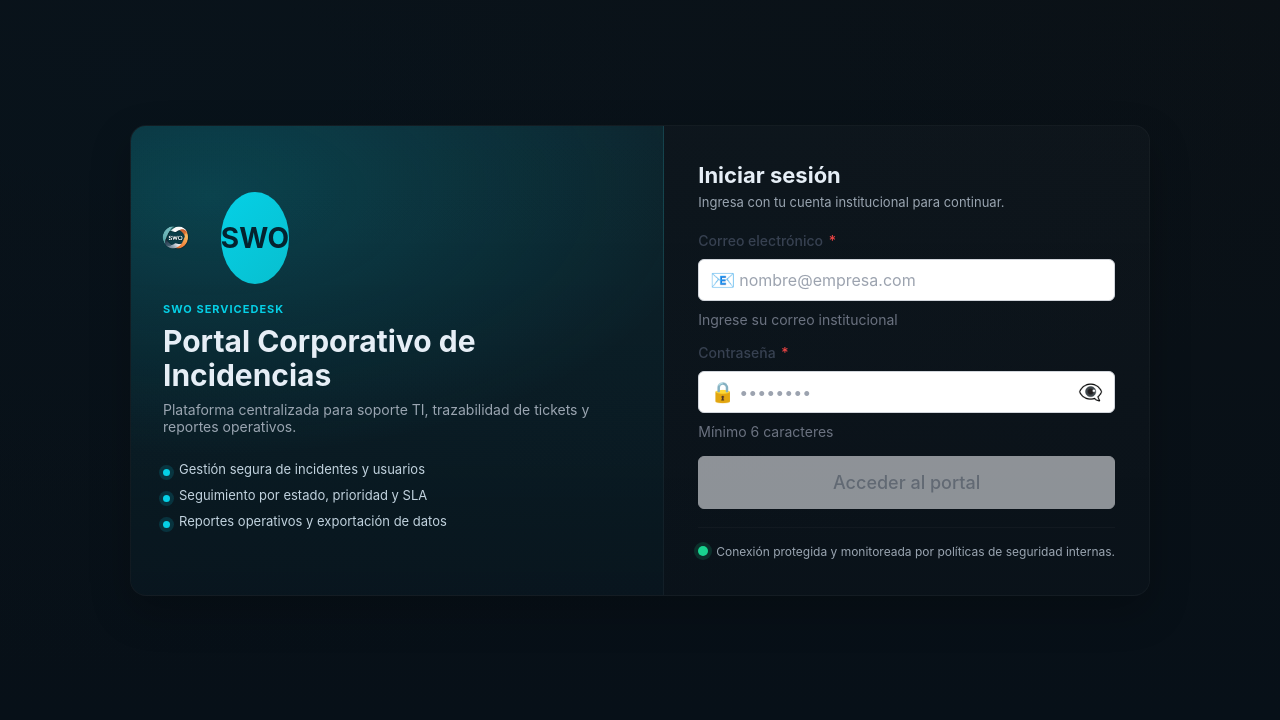
Caso 004 - Chatbot: Mensajes Simultáneos y Estado escribiendo$ › 004-C: Estado escribiendo$ transiciona correctamente true -> false
In the field labelled "Correo electrónico *": coordinates (907, 280) 698,259 -> 1115,301, type "master@swo.com"
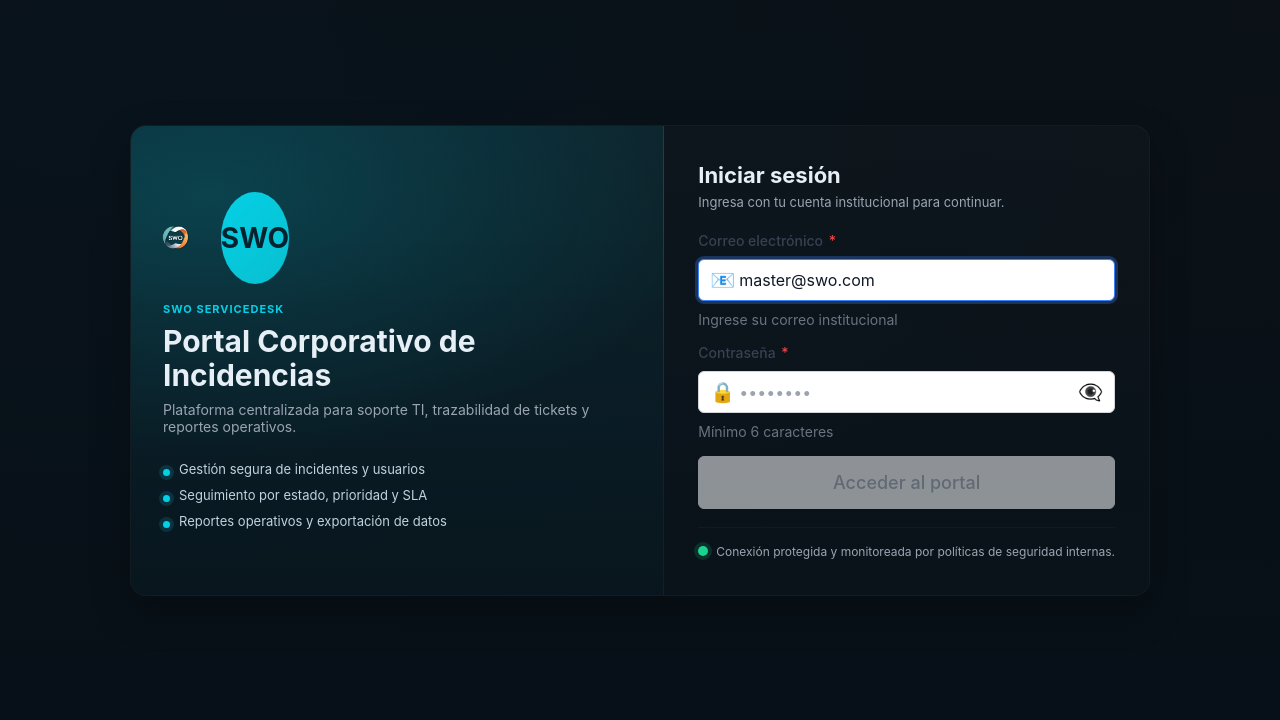
In the password field labelled "Contraseña *": coordinates (907, 392) 698,371 -> 1115,413, type "123456"
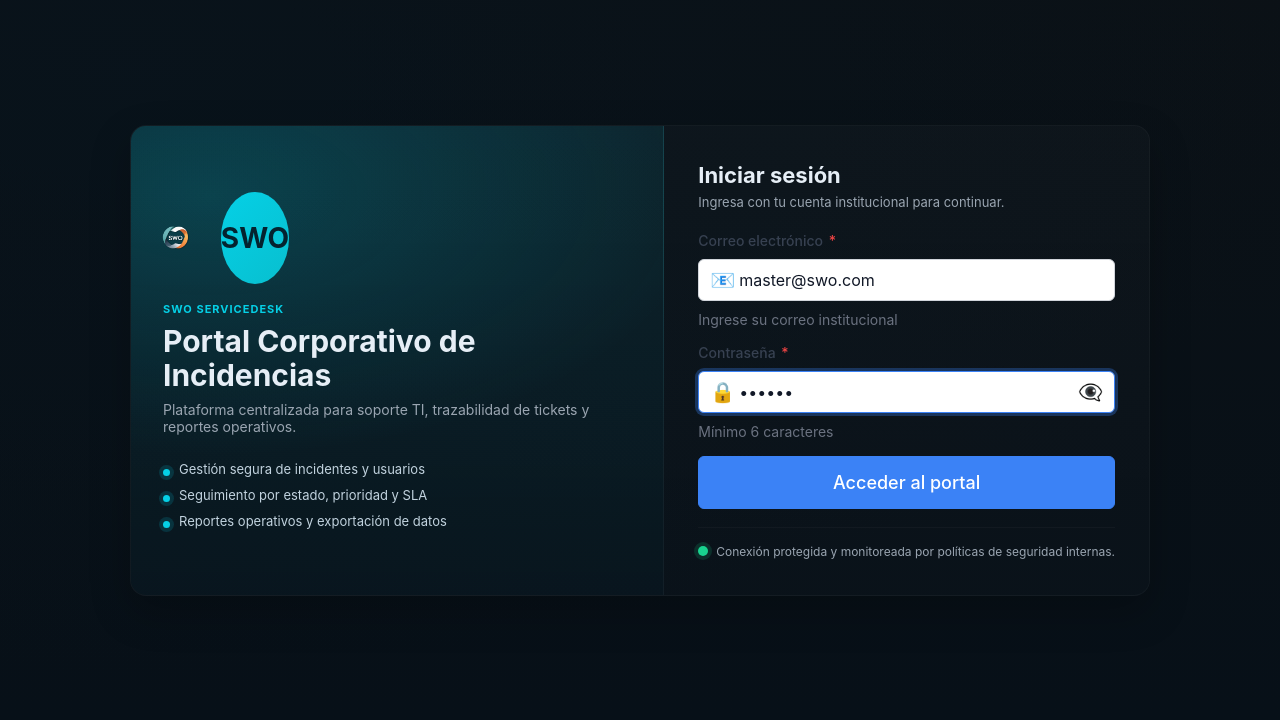
Click the submit button: coordinates (907, 483) 698,456 -> 1115,509
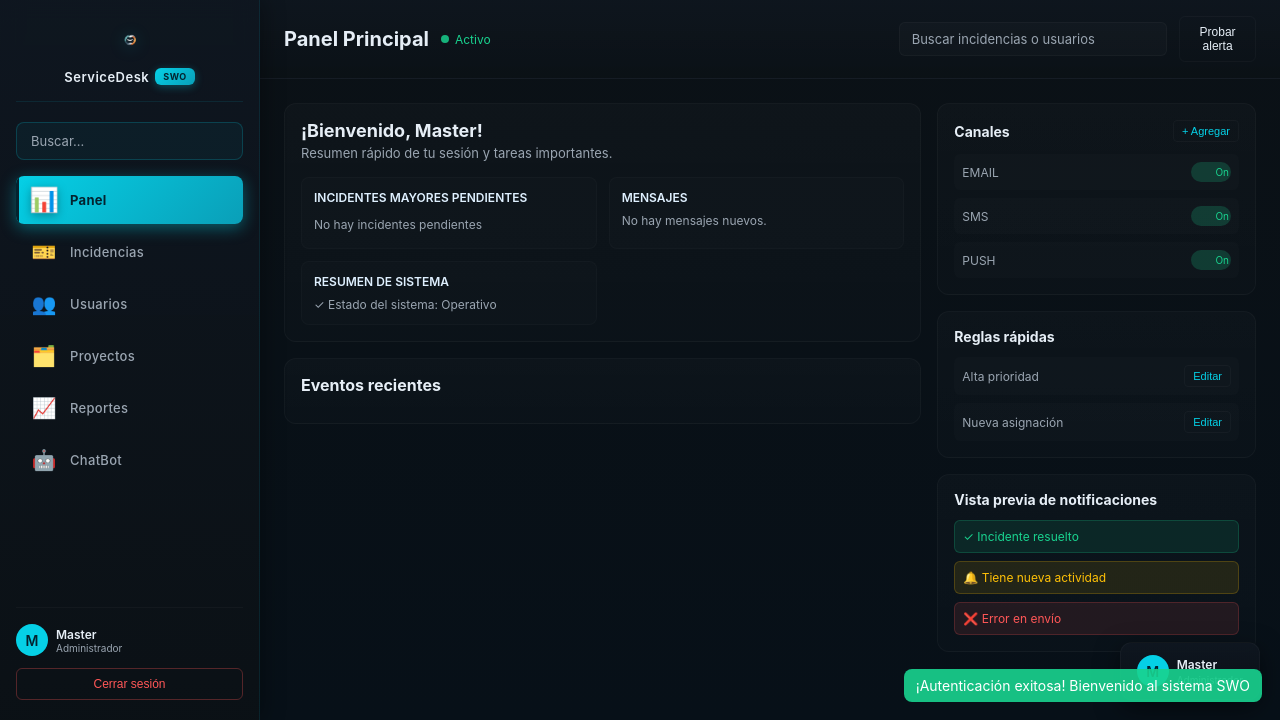
Open "/chatbot"
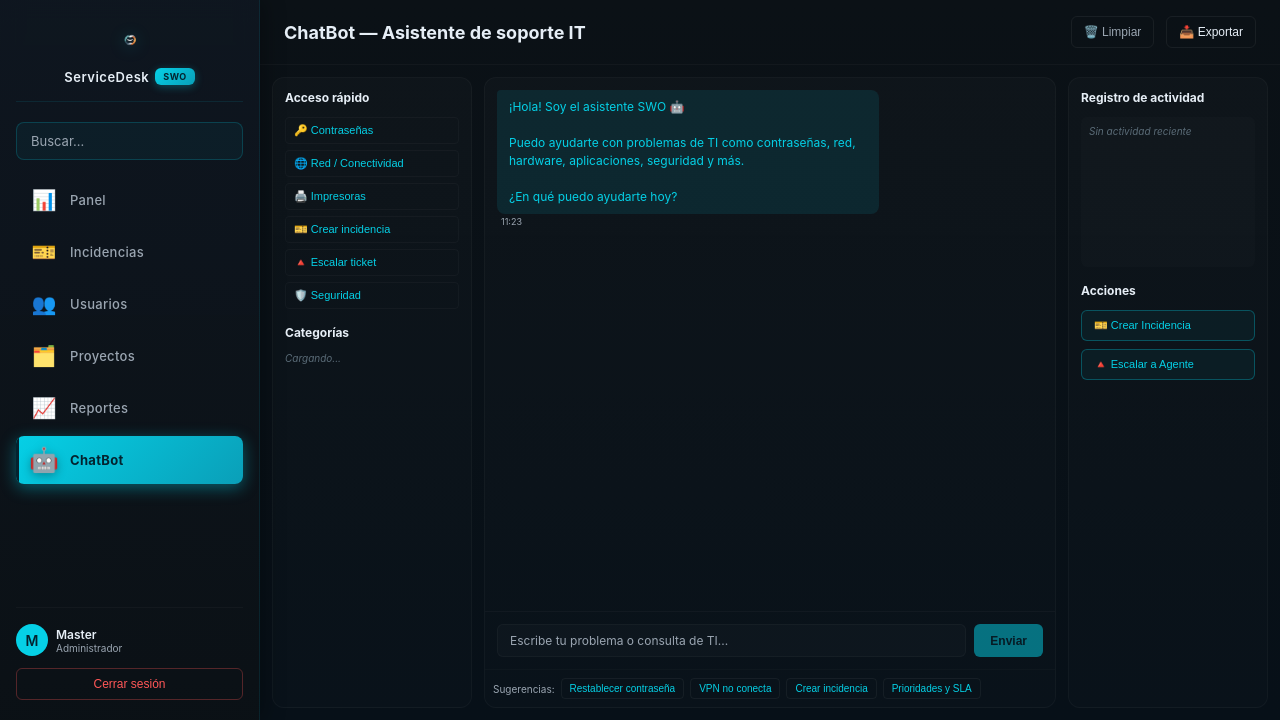
expect the field with class "chat-input" is shown: met
In the field with class "chat-input": coordinates (732, 641) 497,624 -> 966,657, type "como restablezco mi contrasena"
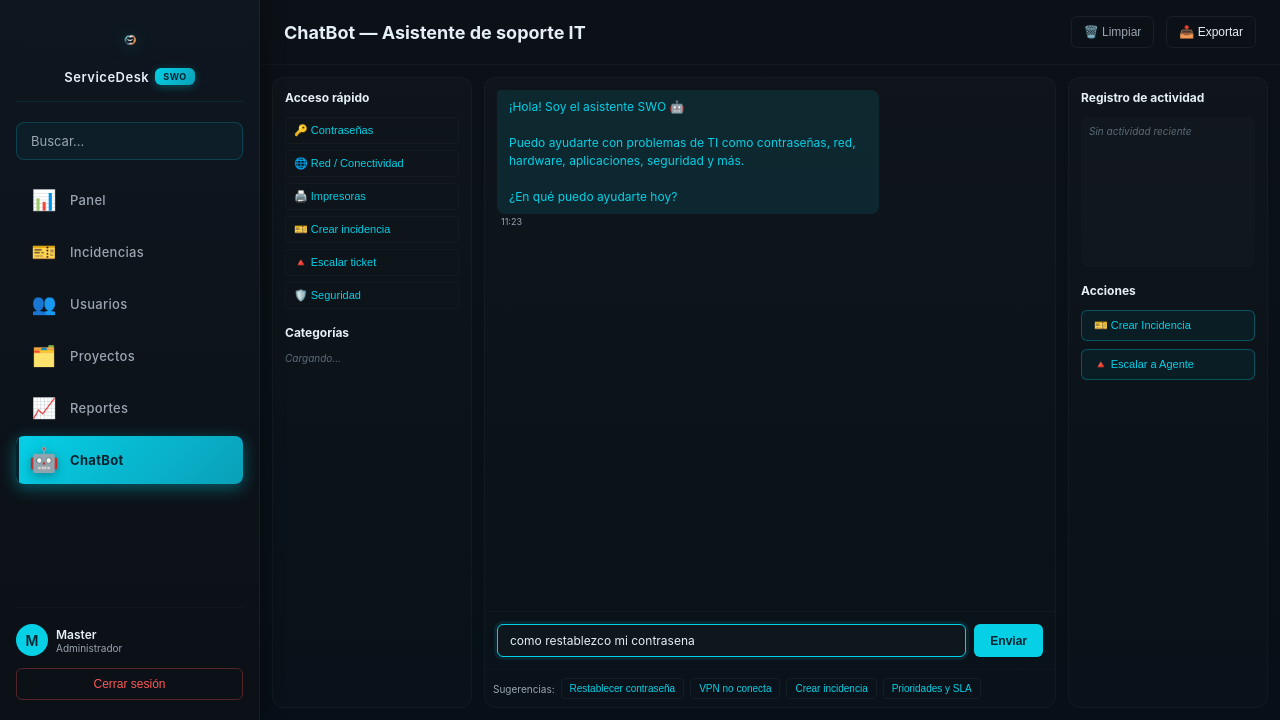
Click the button with class "btn-send": coordinates (1009, 641) 974,624 -> 1043,657
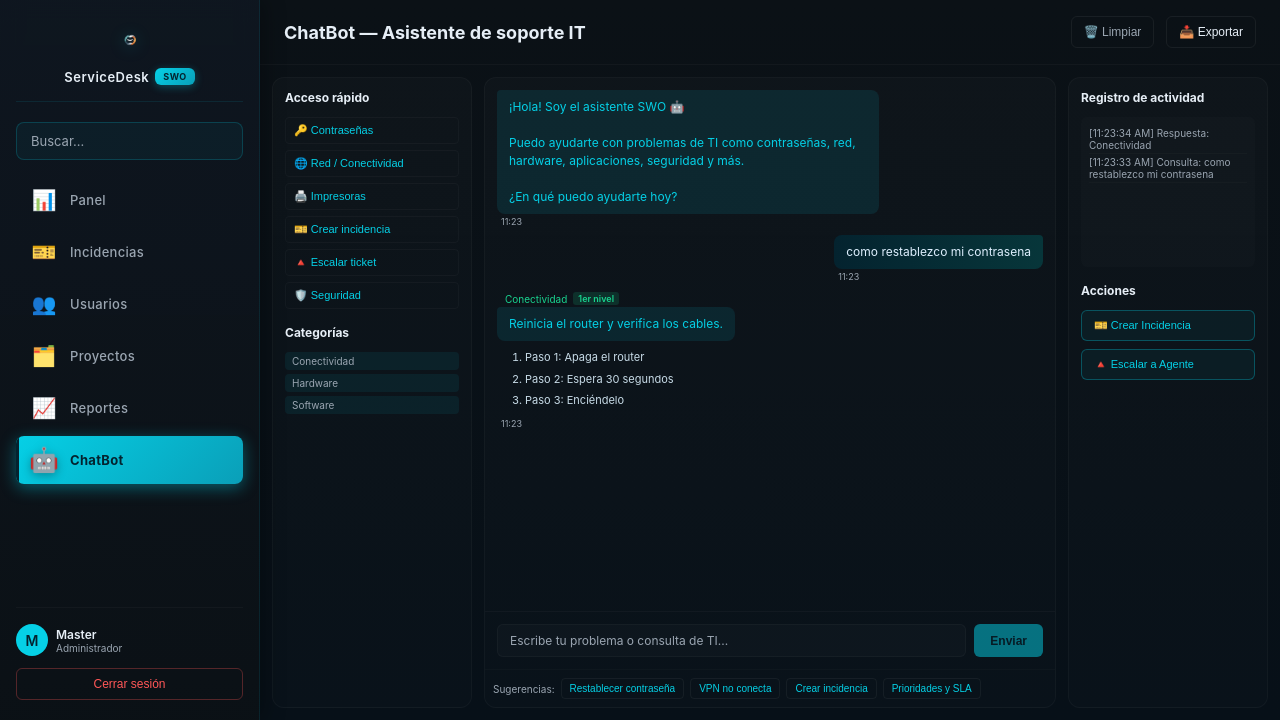
expect the number of elements with class "bot" is at least 2: met
